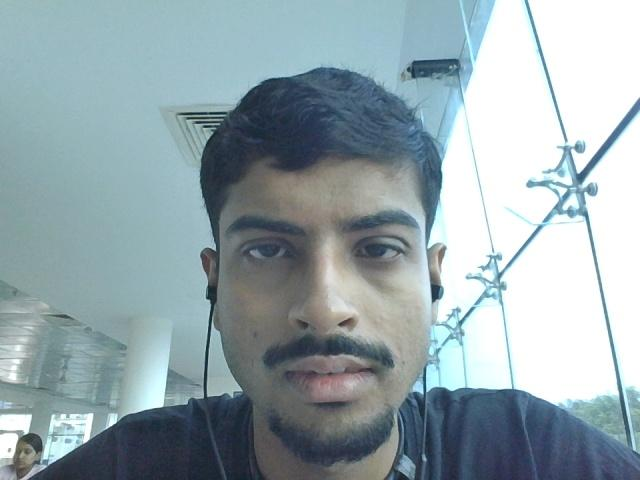confident: (193, 78, 459, 469)
